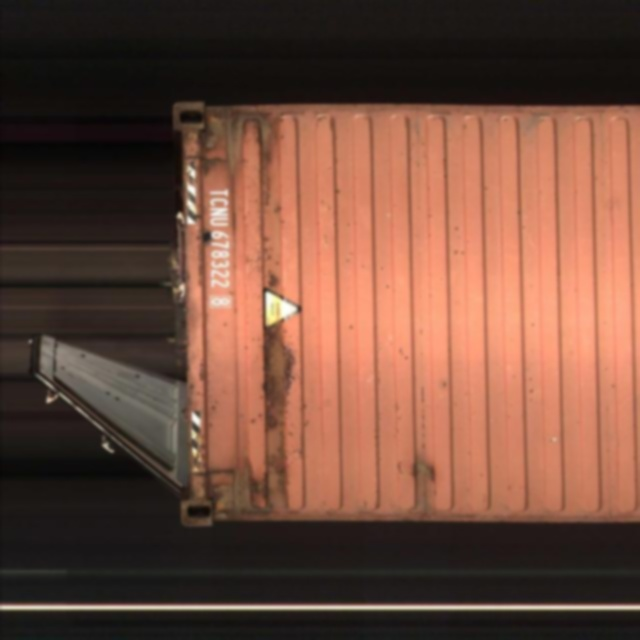Rusty: (263, 318, 298, 437), (213, 111, 276, 174), (220, 463, 289, 520), (402, 445, 445, 516)
